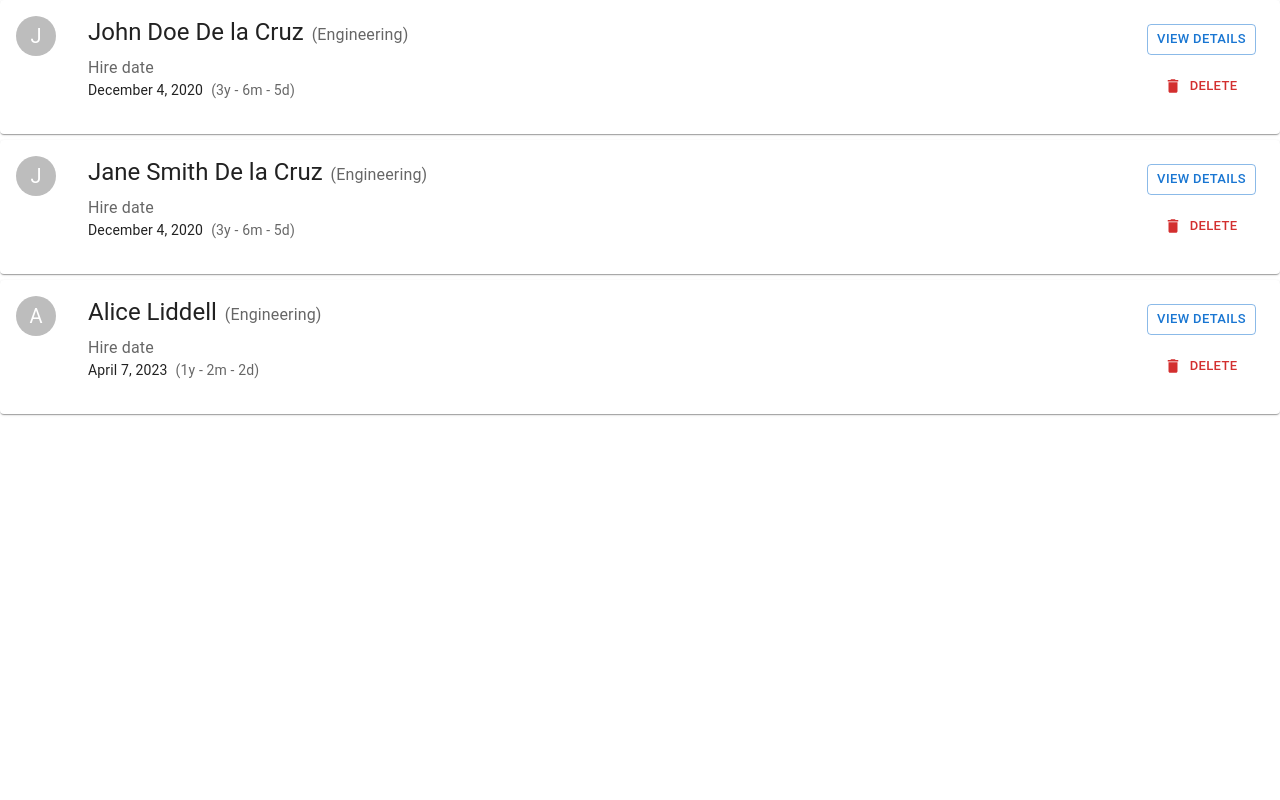
Test case: List of employees › Delete employee › should delete an employee when confirming the dialog
Click the 1st button "Delete": click(1202, 86) 1147,71 -> 1256,102
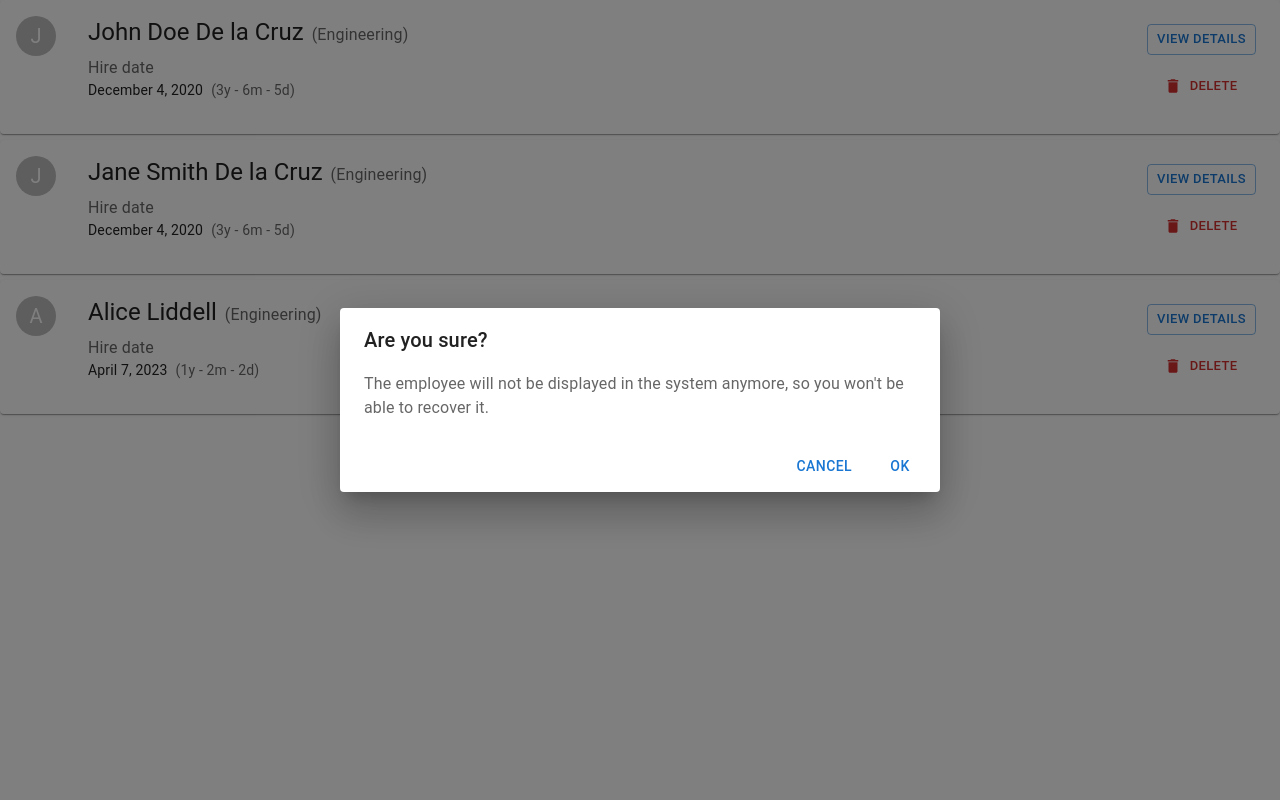
Click the button "OK": click(900, 466) 868,448 -> 932,484
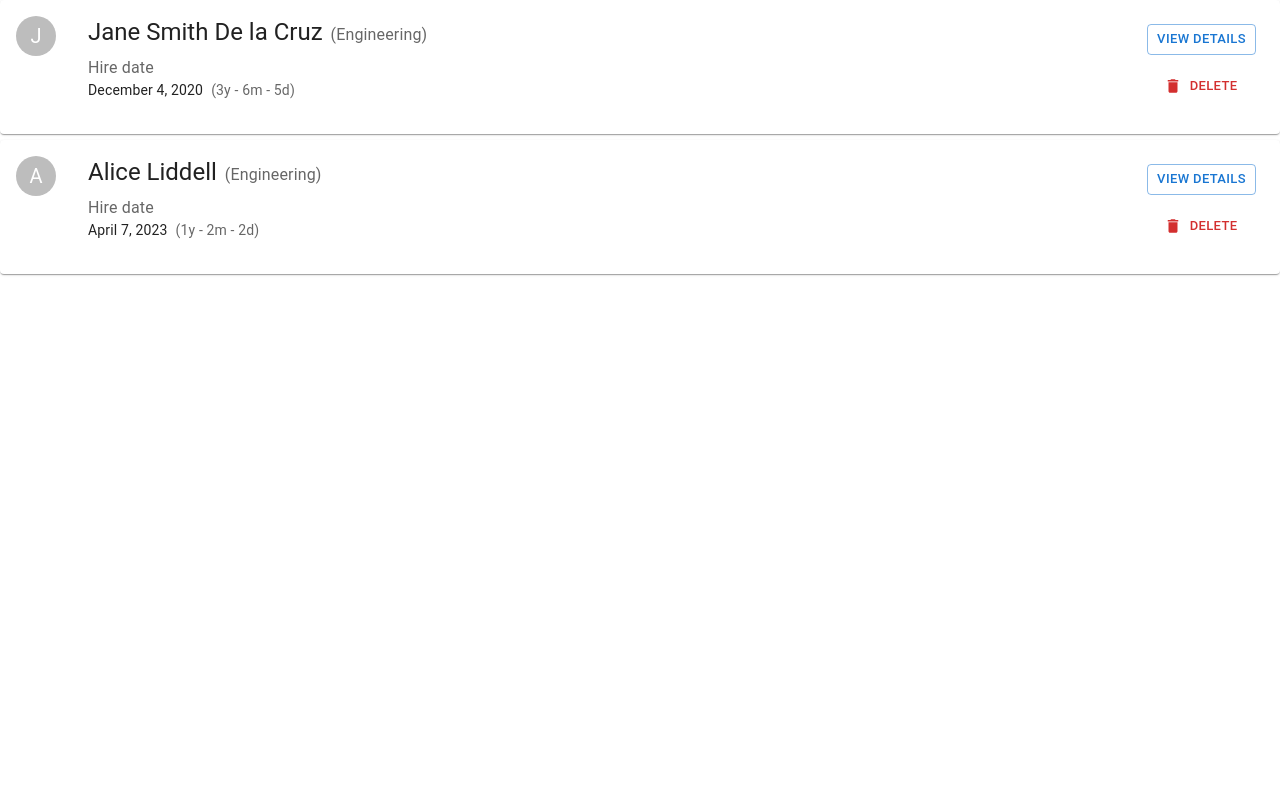
Now the number of list items is 2, box 0,0 -> 1279,134; 0,140 -> 1279,274
Now the list item that starts with "Jane Smith De la Cruz" no longer shows "John Doe", box 0,0 -> 1279,134
